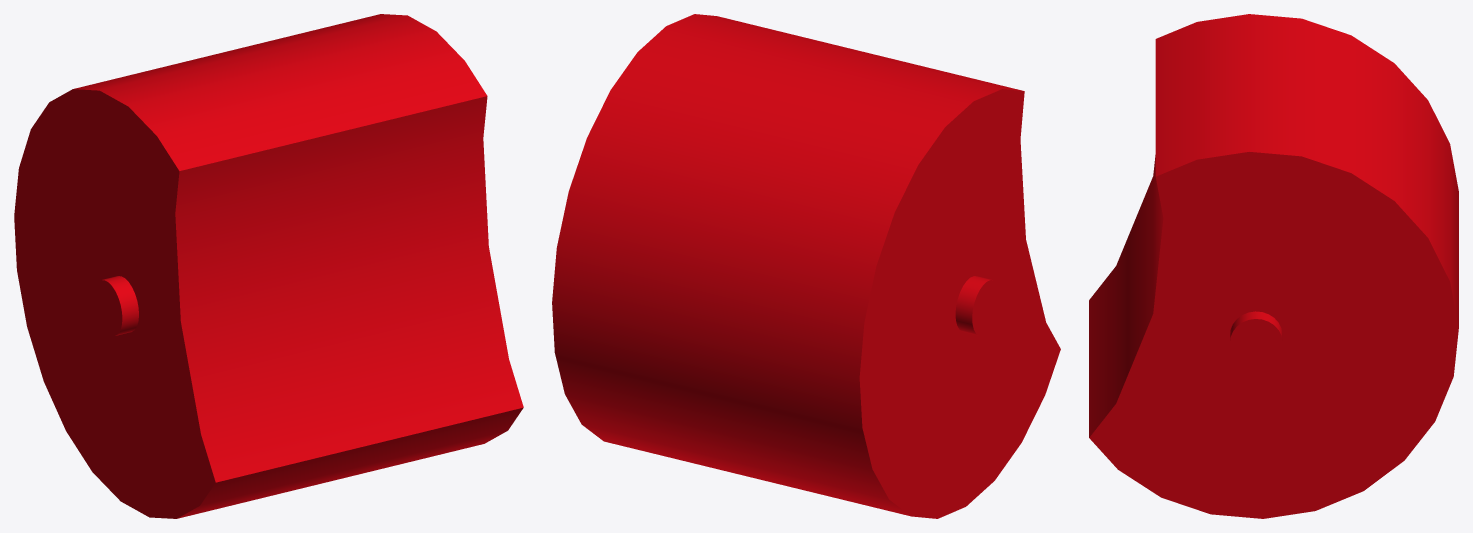
Rendered from original-9.obj.
The picture shows the model from 3 angles, left to right: view 1: azimuth 30°, elevation 25°; view 2: azimuth 150°, elevation 25°; view 3: azimuth 270°, elevation 25°; orthographic projection. The views are drawn at different scales.
Visible parts, largest first — view 1: mesh7/mesh7-geometry#mesh7-geometry; view 2: mesh7/mesh7-geometry#mesh7-geometry; view 3: mesh7/mesh7-geometry#mesh7-geometry.
Boxes of the visible parts, x1,y1,x2,y2 form: mesh7/mesh7-geometry#mesh7-geometry: [14, 14, 523, 518]; mesh7/mesh7-geometry#mesh7-geometry: [552, 14, 1060, 518]; mesh7/mesh7-geometry#mesh7-geometry: [1089, 14, 1458, 518].
Bounding box in the file's own units: 0.8901 × 0.9981 × 0.9107.
